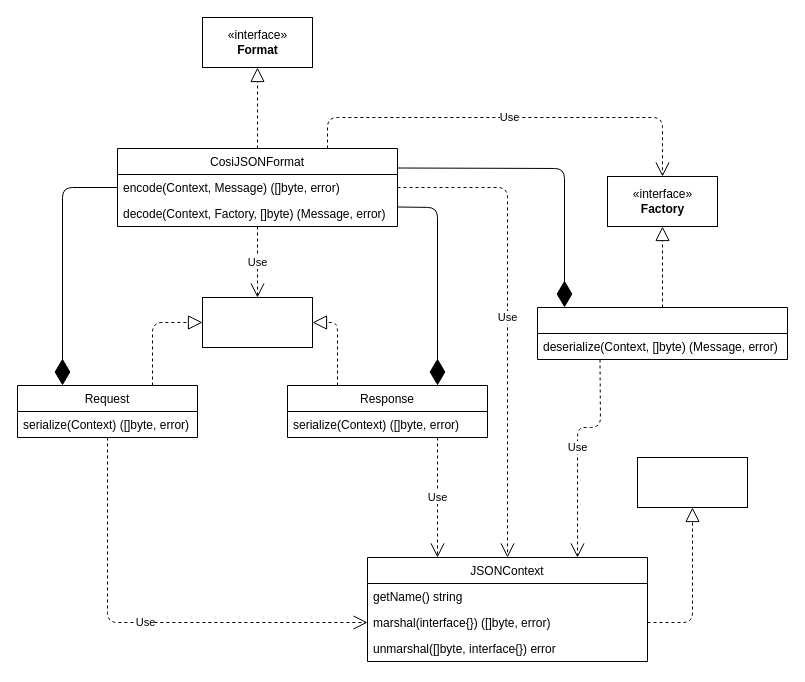
Image size: 805x682. Some labels were removed from this diagram. Each missing label, with the box of its shape:
MessageFactory: (536, 306, 788, 360)
«interface» Context: (636, 456, 748, 508)
«interface» Message: (202, 296, 312, 348)
